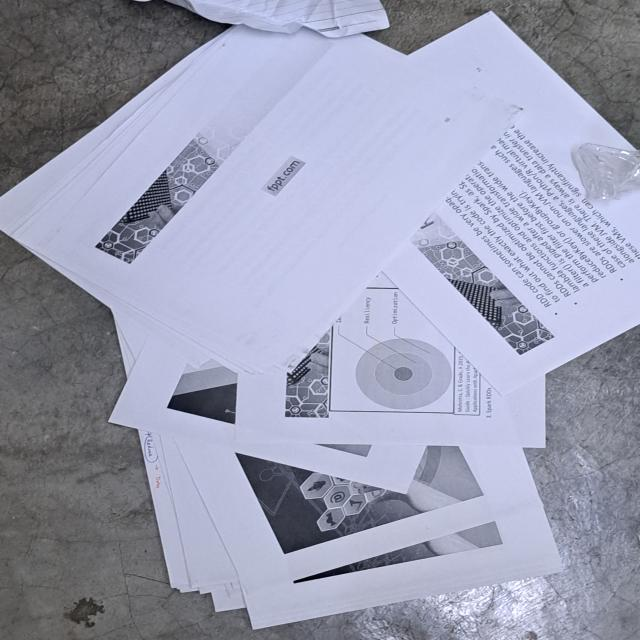paper: (0, 0, 640, 633)
